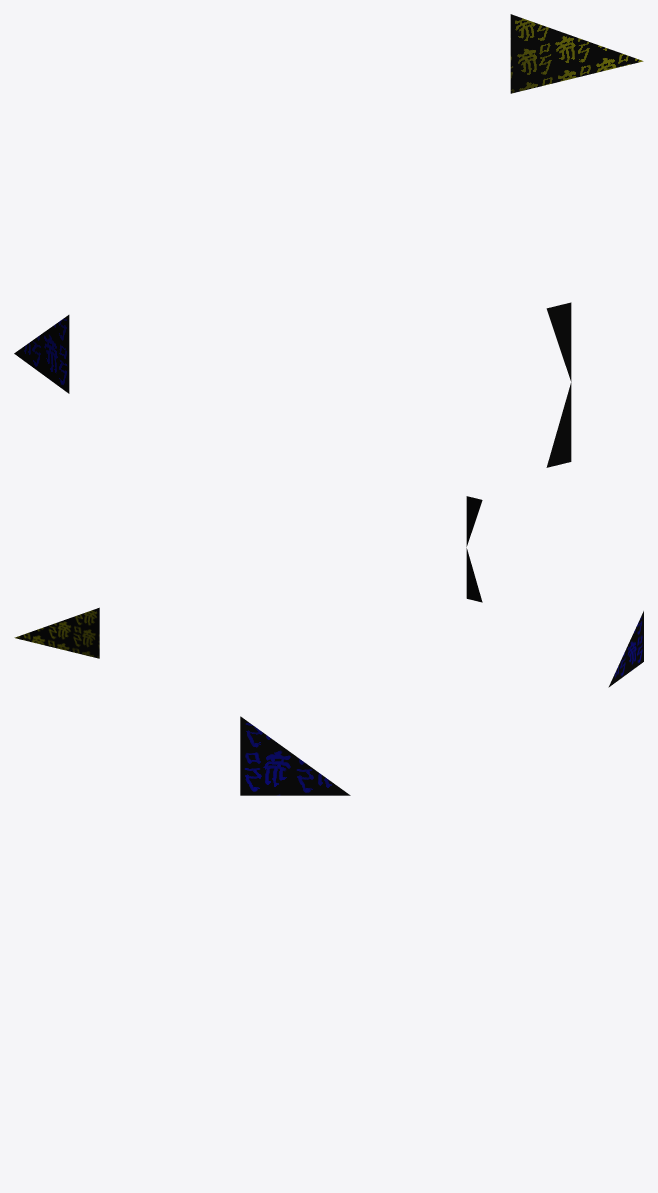
The model's file is ChicagoStealth_Alpha_62.glb.
3 views of the same model, one above another, from view 1: azimuth 30°, elevation 25°; view 2: azimuth 150°, elevation 25°; view 3: azimuth 270°, elevation 25° (orthographic). The views are drawn at different scales.
Visible parts, largest first — view 1: ChicagoStealth_Alpha_62; view 2: ChicagoStealth_Alpha_62; view 3: ChicagoStealth_Alpha_62.
Part boxes in pixels (<box>): ChicagoStealth_Alpha_62: <box>14,14,643,467</box>; ChicagoStealth_Alpha_62: <box>14,496,643,687</box>; ChicagoStealth_Alpha_62: <box>240,716,350,795</box>.
Size of the model in its own units: 382 by 75 by 269.
Materials: 1 (1 with a texture image).
